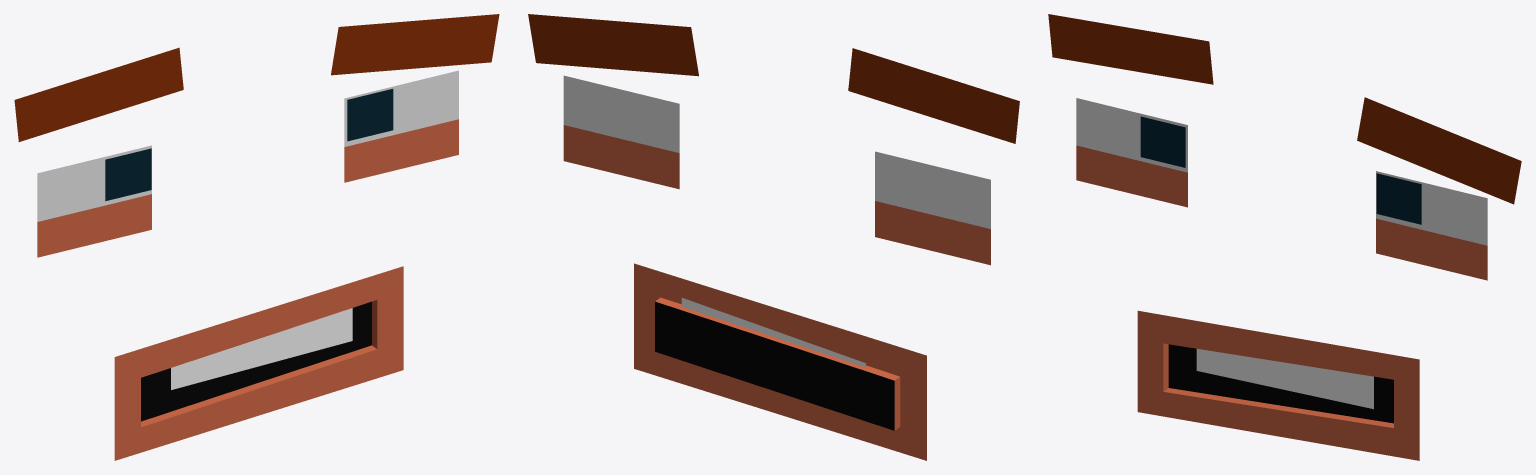
Rendered from Face Male 09.FBX.
3 views of the same model, side by side, from view 1: azimuth 30°, elevation 25°; view 2: azimuth 150°, elevation 25°; view 3: azimuth 330°, elevation 25° (orthographic). The views are drawn at different scales.
Parts seen in each view (by area): view 1: Face Male 09; view 2: Face Male 09; view 3: Face Male 09.
Part boxes in pixels (box(x1,y1,x2,y2)): Face Male 09: box(14, 14, 499, 460); Face Male 09: box(528, 14, 1019, 460); Face Male 09: box(1048, 14, 1521, 460).
Bounding box in the file's own units: 39.79 × 30.84 × 1.01.
Materials: 1 (1 with a texture image).
